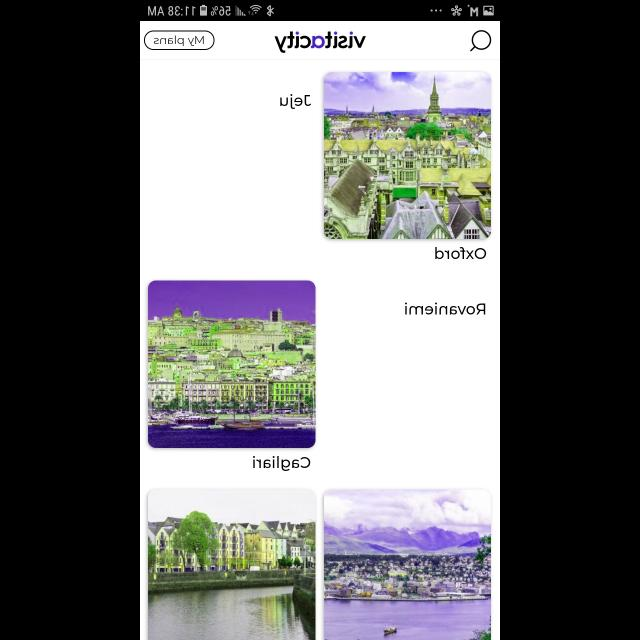icon: (469, 30, 491, 52)
image: (148, 280, 316, 448), (324, 72, 491, 240), (148, 490, 316, 640), (324, 490, 491, 640), (274, 31, 366, 53)
text: (404, 303, 486, 315), (253, 456, 311, 472), (434, 247, 486, 259), (280, 94, 310, 110)
textbutton: (143, 30, 214, 50)
uppertaskbar: (140, 1, 500, 22)
